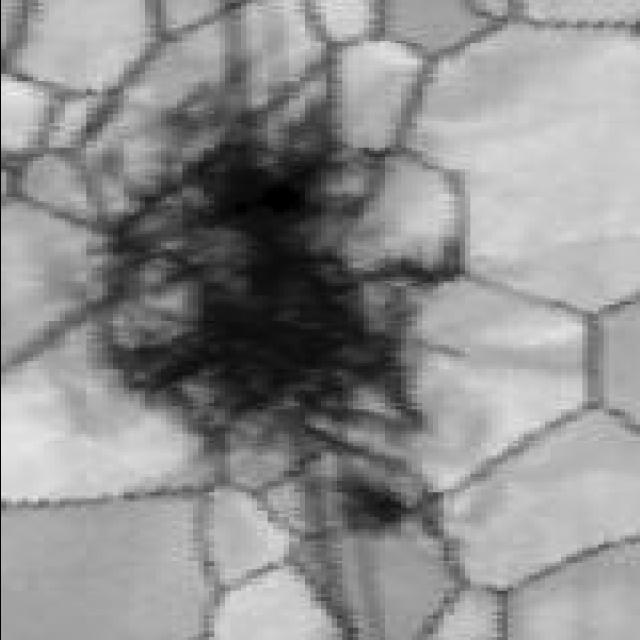good_void: (76, 88, 476, 536)
